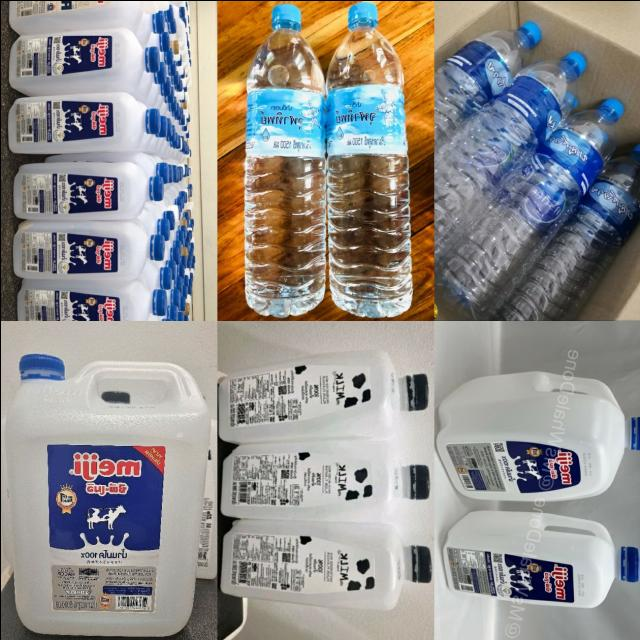plastik: (5, 353, 209, 635), (435, 98, 622, 318), (434, 51, 585, 259), (326, 1, 411, 316), (435, 371, 640, 499), (243, 4, 325, 316), (498, 144, 640, 319), (217, 349, 428, 443), (442, 510, 639, 606), (221, 519, 430, 609), (221, 438, 429, 520), (434, 20, 540, 149), (8, 27, 160, 95), (7, 92, 160, 153), (12, 219, 163, 279), (12, 161, 162, 218), (16, 278, 182, 320), (8, 0, 169, 34)
